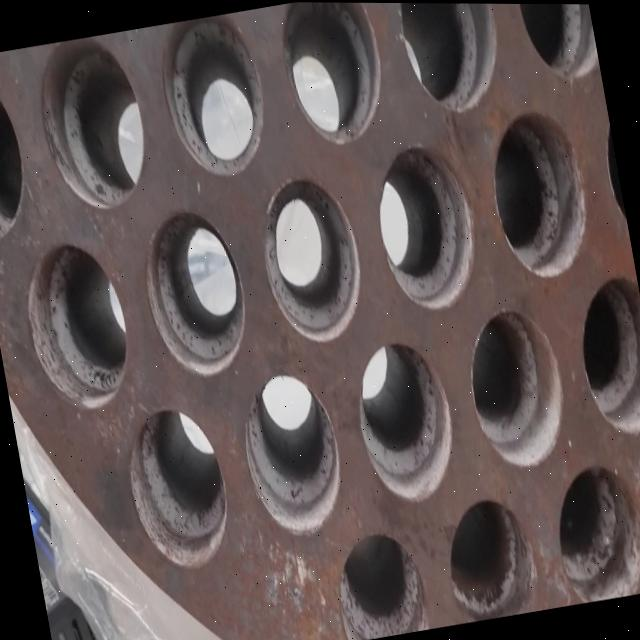Hole: (30, 29, 157, 217), (15, 234, 140, 417), (134, 198, 256, 384), (252, 169, 372, 350), (366, 136, 486, 317), (154, 9, 275, 185), (118, 400, 238, 576), (234, 364, 352, 542), (481, 104, 598, 283), (346, 332, 464, 508), (460, 301, 576, 474), (275, 2, 393, 151), (437, 489, 544, 624), (546, 454, 640, 604), (391, 2, 508, 119), (568, 270, 640, 440), (328, 524, 431, 640), (511, 3, 601, 85), (0, 58, 34, 243), (594, 84, 632, 249)
